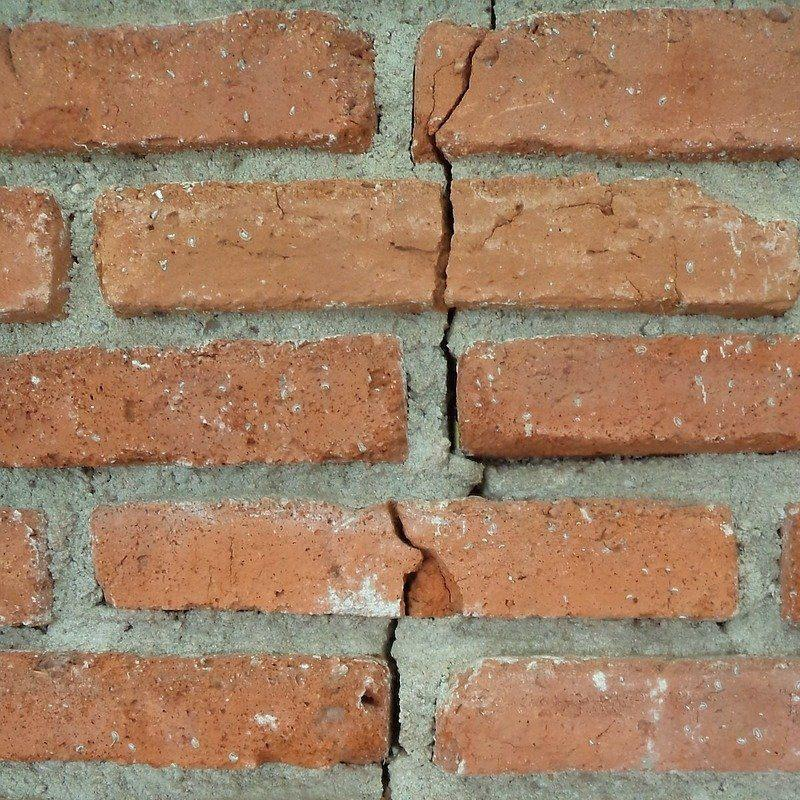pothole: (425, 0, 502, 456), (377, 615, 402, 799), (388, 501, 425, 553), (465, 453, 489, 498), (400, 569, 418, 619)
